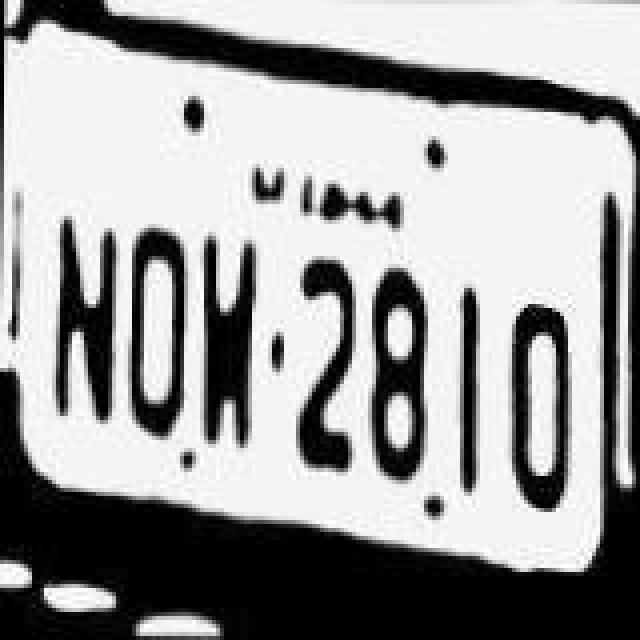1: (446, 266, 494, 518)
2: (284, 246, 360, 518)
8: (360, 248, 436, 520)
N: (38, 188, 122, 452)
O: (496, 270, 572, 530), (116, 194, 188, 450)
W: (192, 216, 264, 448)
